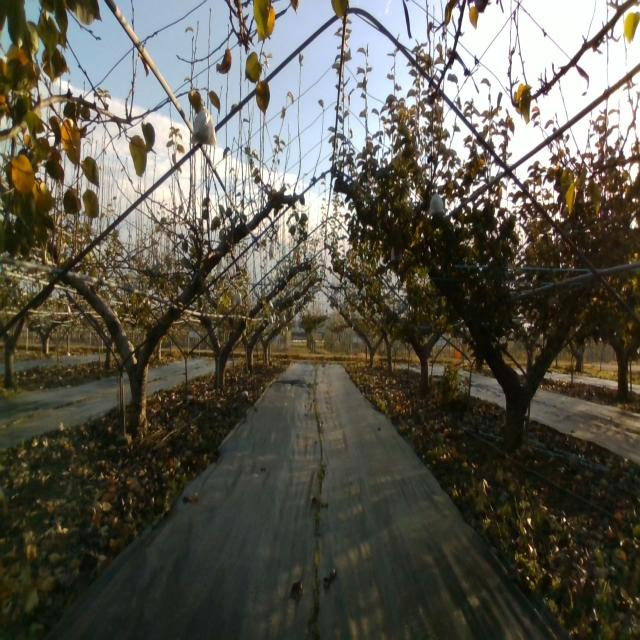pearbags: (190, 100, 218, 146), (429, 188, 445, 219)
